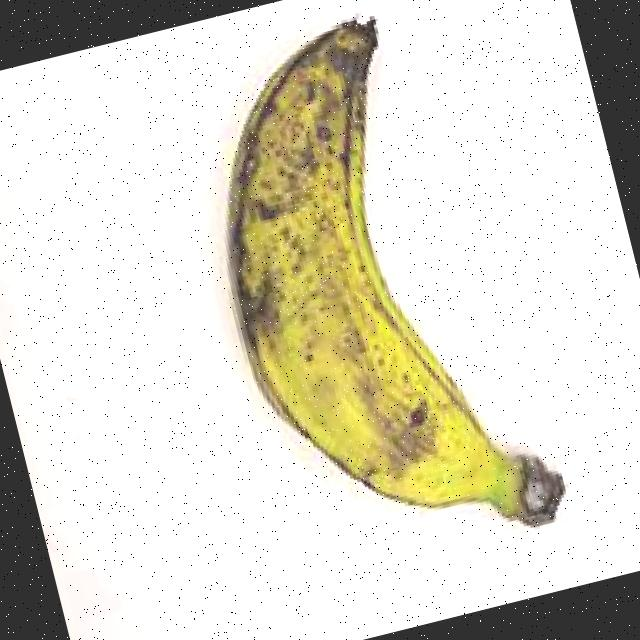Overripe: (125, 0, 619, 623)
